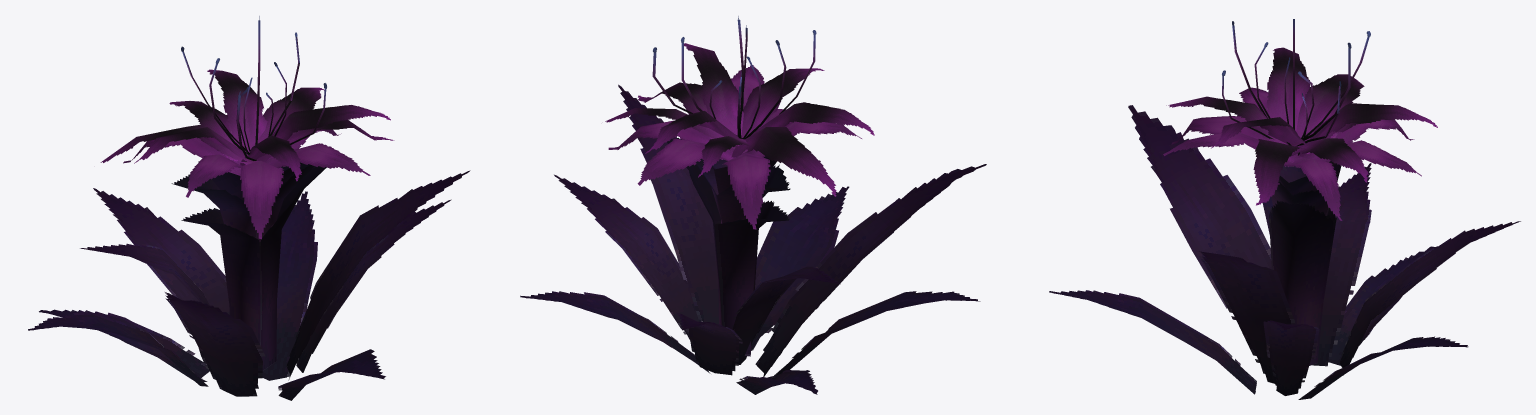
The model's file is herb_higan.glb.
The picture shows the model from 3 angles, left to right: view 1: azimuth 30°, elevation 25°; view 2: azimuth 150°, elevation 25°; view 3: azimuth 270°, elevation 25°; orthographic projection. The views are drawn at different scales.
Visible parts, largest first — view 1: 虚空彼岸花; view 2: 虚空彼岸花; view 3: 虚空彼岸花.
Part boxes in pixels (x1,y1,x2,y2): 虚空彼岸花: [28, 16, 470, 400]; 虚空彼岸花: [520, 16, 986, 394]; 虚空彼岸花: [1049, 19, 1520, 399].
Bounding box in the file's own units: 1.04 × 0.7894 × 0.9785.
1 material, 1 textured.
